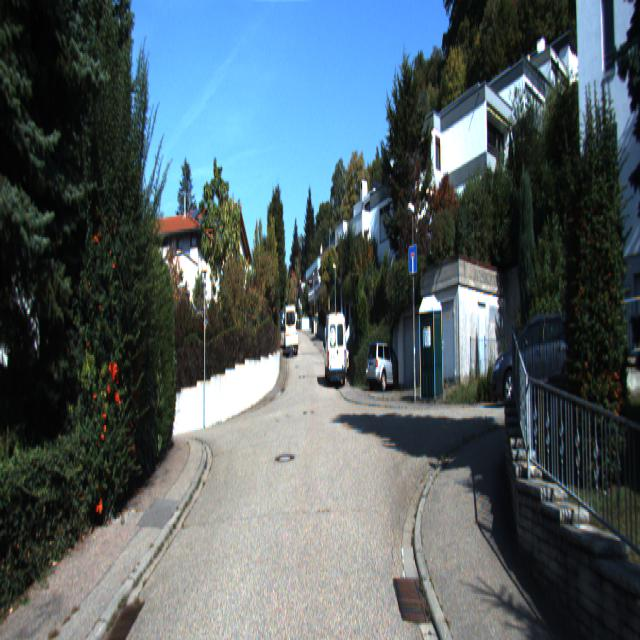Car: (490, 306, 584, 410), (364, 338, 406, 392), (323, 311, 347, 390), (284, 304, 297, 348), (284, 332, 298, 356)
